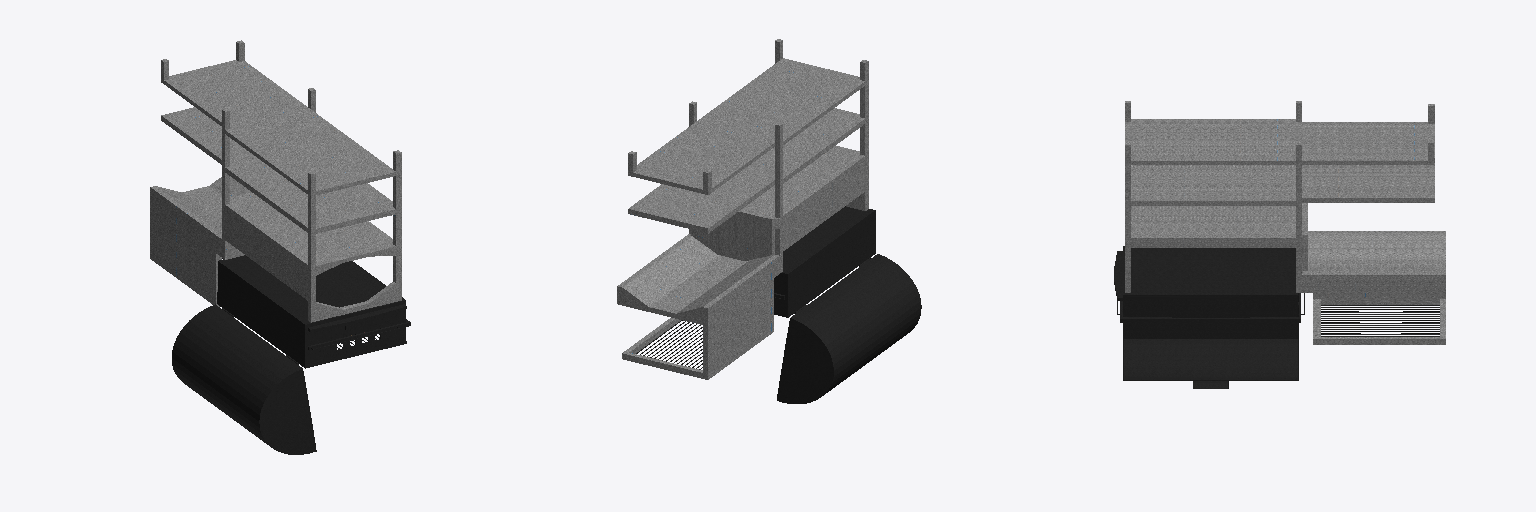
3 renders of one model, left to right at view 1: azimuth 30°, elevation 25°; view 2: azimuth 150°, elevation 25°; view 3: azimuth 270°, elevation 25°, orthographic.
Size of the model in its own units: 0.2886 by 0.5278 by 0.5511.
3 materials, 3 textured.